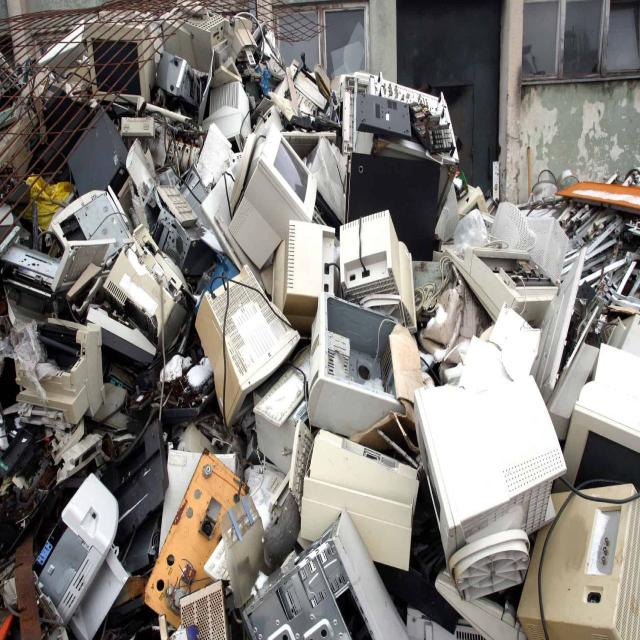E-waste: (4, 127, 640, 640), (116, 7, 640, 127)
Metal: (2, 0, 115, 125)
